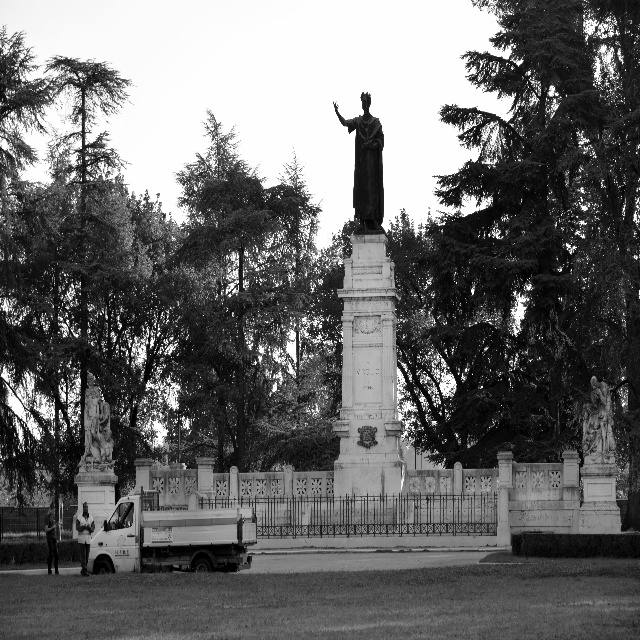Sin_guantes: (333, 100, 339, 112), (85, 523, 90, 530), (53, 524, 58, 530), (83, 523, 87, 530)
